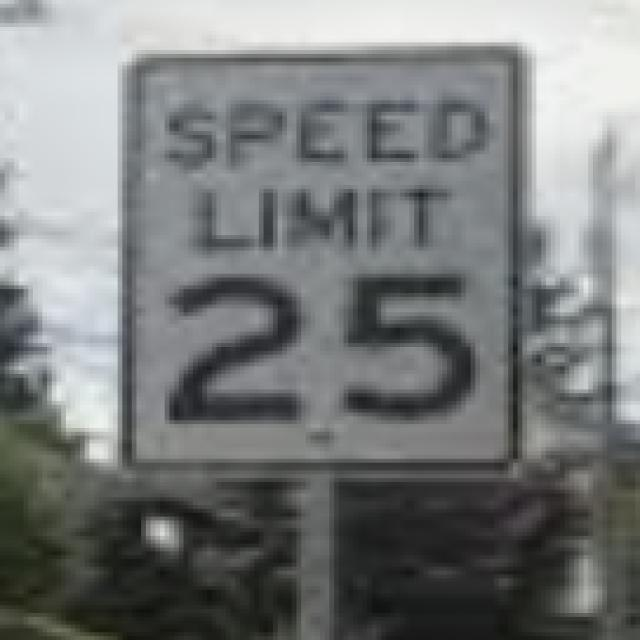speedLimit25: (119, 45, 525, 476)
